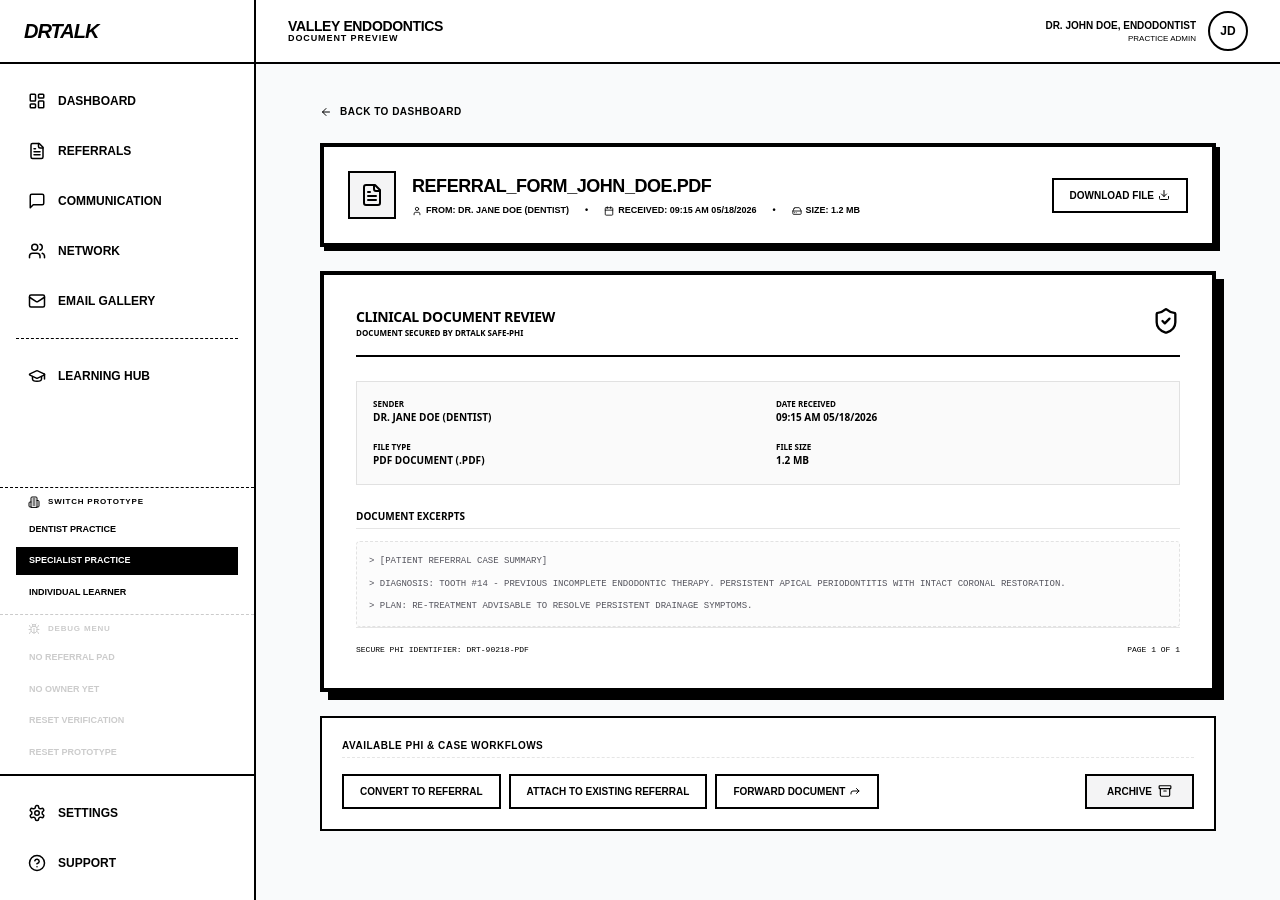
Test case: prototype route use cases › document detail renders preview metadata and archives active inbox documents
The width and height of the screenshot is (1280, 900).
expect the heading "REFERRAL_FORM_JOHN_DOE.PDF" is shown: met, box [412, 172, 711, 200]
expect the heading "CLINICAL DOCUMENT REVIEW" is shown: met, box [356, 307, 555, 327]
Click the button "Archive": click(1140, 791) [1085, 774, 1194, 809]
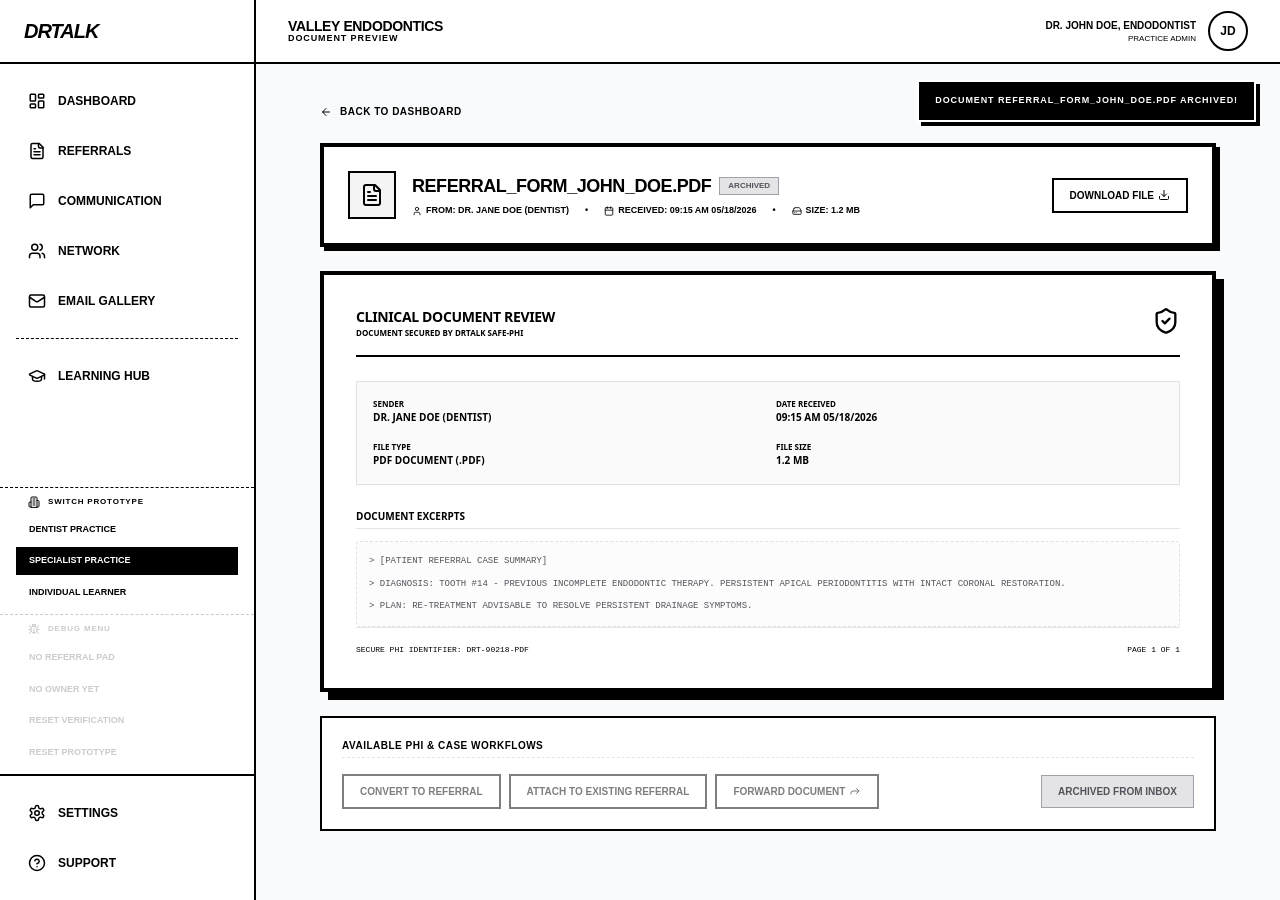
expect the text "Archived from inbox" is shown: met, box [1041, 775, 1194, 808]
